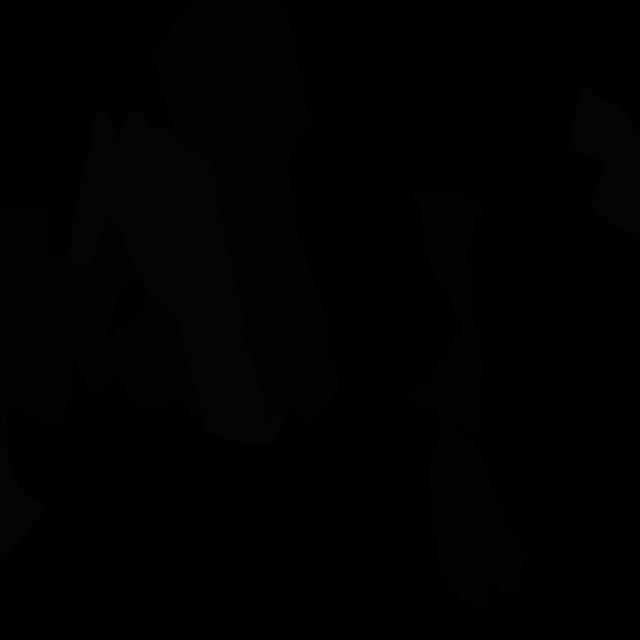cardboard: (208, 123, 330, 421), (152, 0, 314, 161), (402, 186, 488, 432), (427, 419, 529, 608), (0, 208, 84, 430), (70, 212, 138, 399), (104, 291, 203, 416), (294, 362, 342, 424)
soft_plastic: (68, 108, 285, 447), (568, 84, 640, 247), (0, 414, 46, 561)
